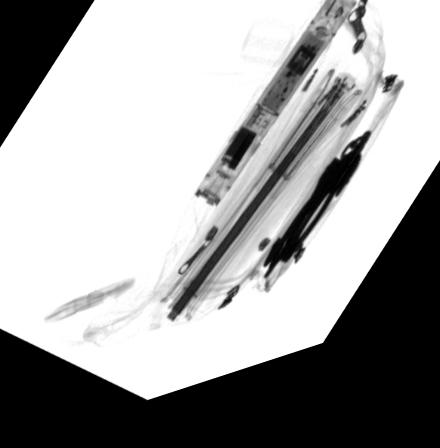Baton: (193, 6, 360, 223)
HandCuffs: (259, 151, 374, 300)
